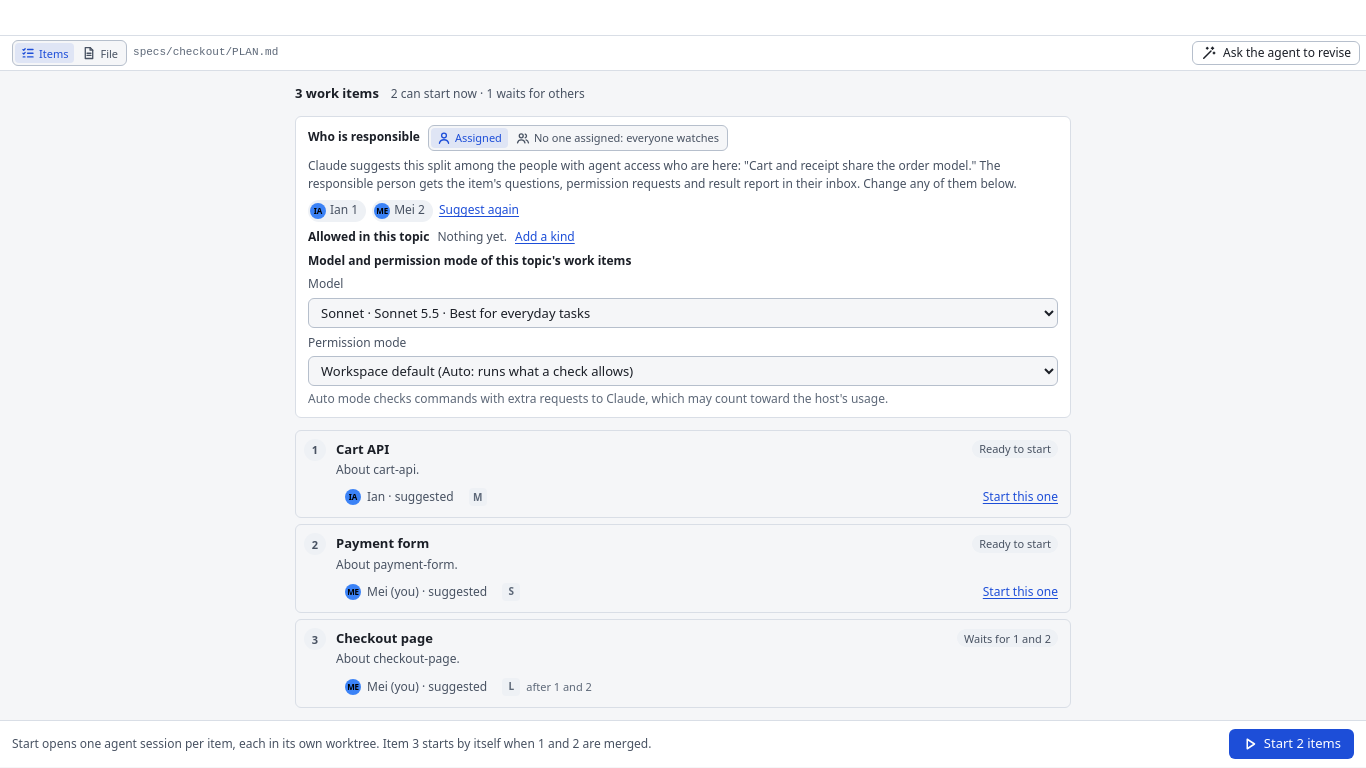
Test: the plan column: the topic's model and the mode of its work items (DESIGN 0.6.0 D18) › shows what the topic has, and changes it with topic.agent.set
Select "The host's default (Opus)" in the dropdown labelled "Model" at point(683, 313), box [308,298,1058,328]
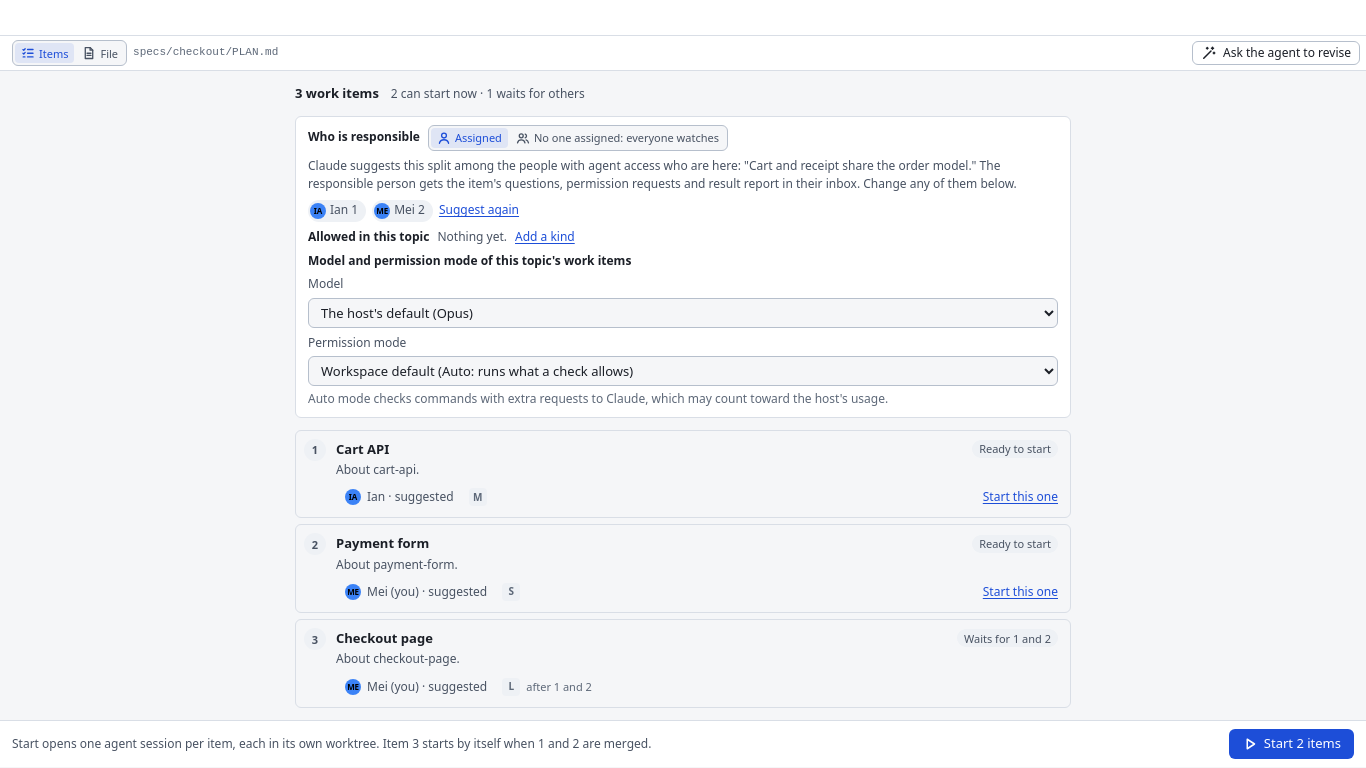
Select "Asks before edits and commands" in the dropdown labelled "Permission mode" at point(683, 371), box [308,356,1058,386]
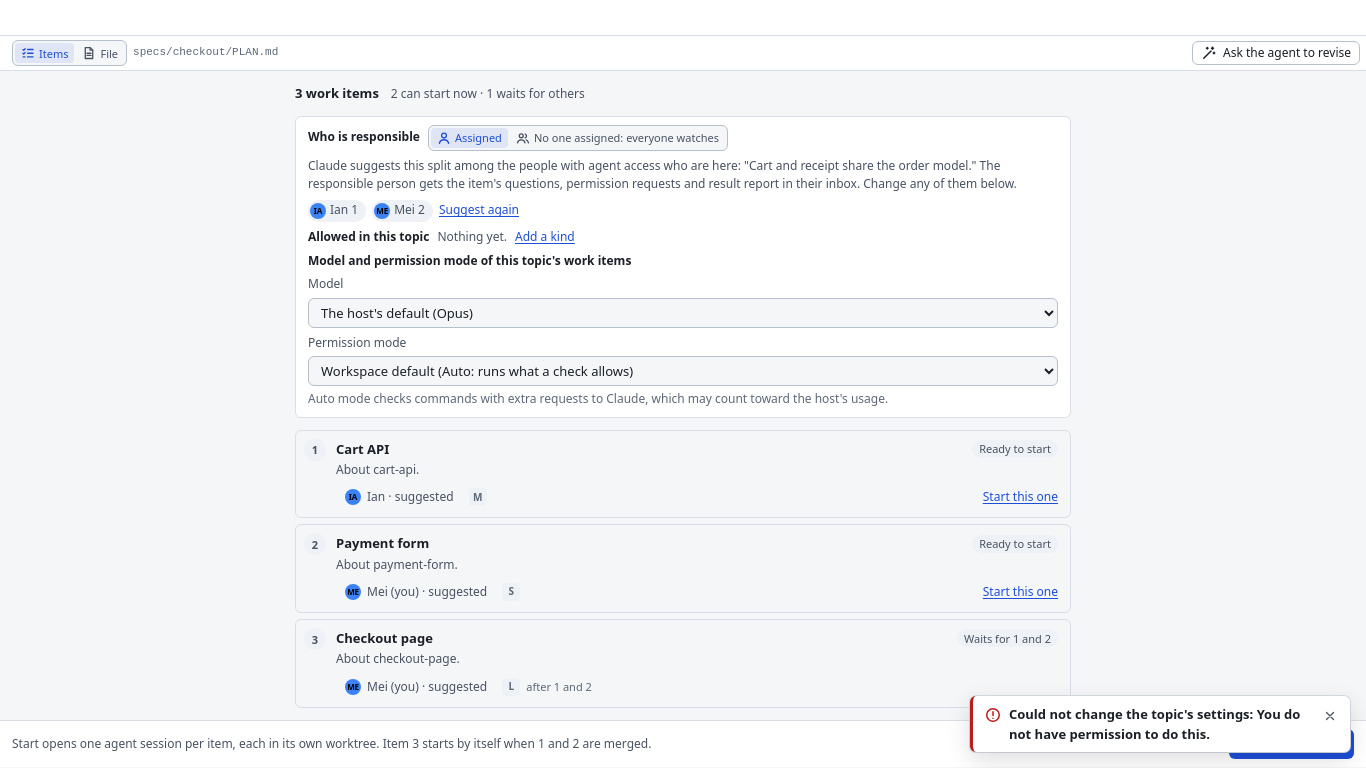
Check: the text "Could not change the topic's settings:" is shown, box [1009,705,1300,743]
